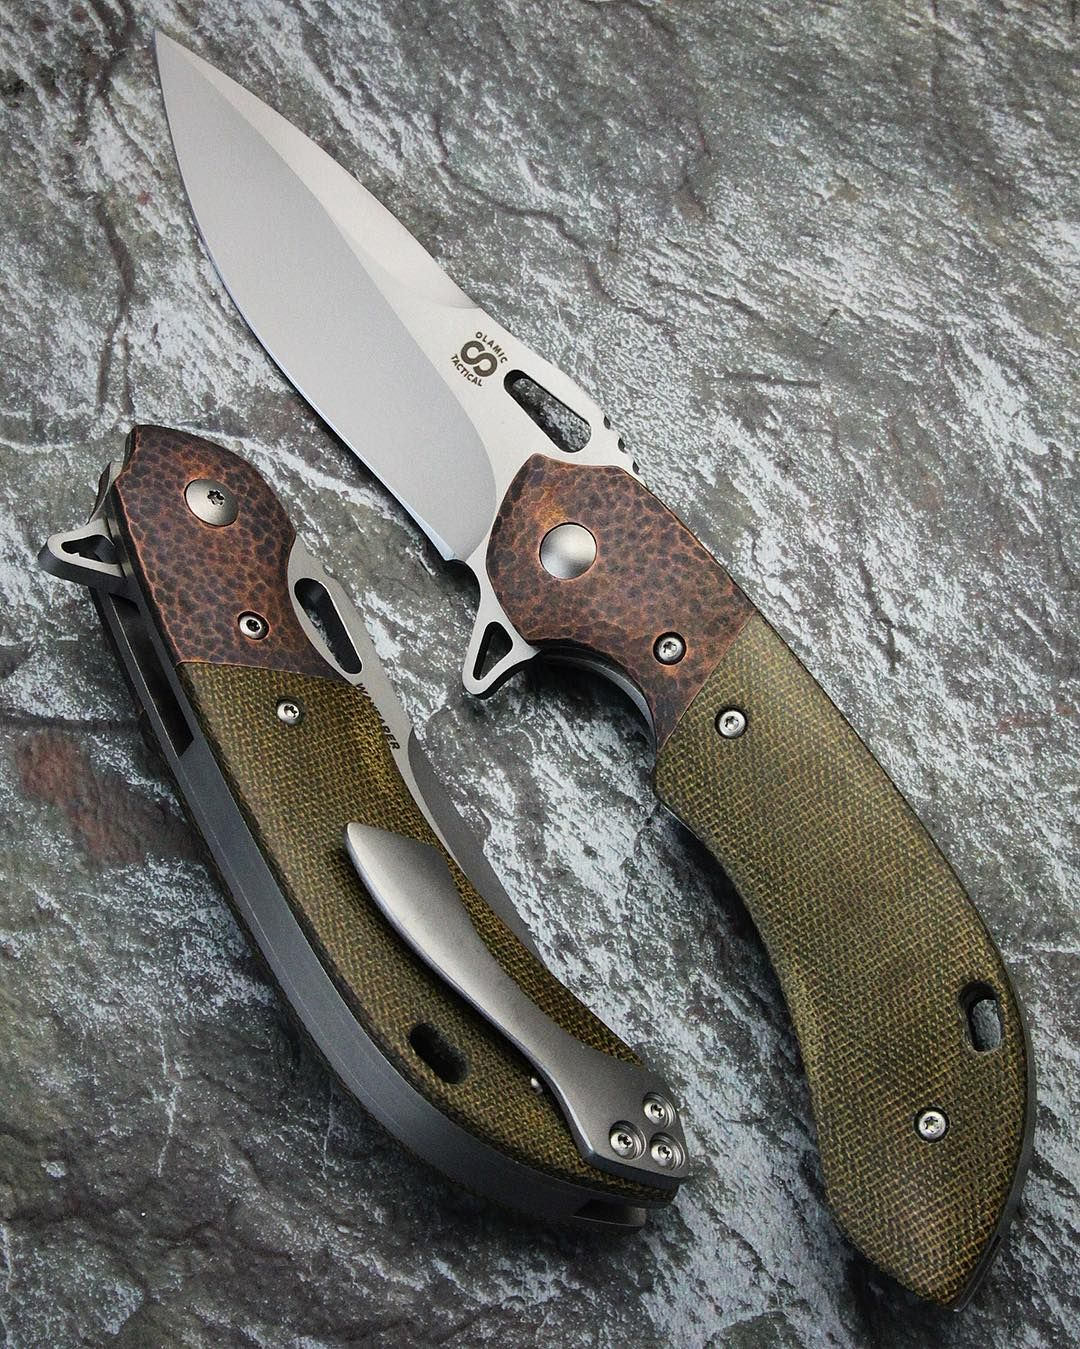knife: (144, 17, 1050, 1312)
